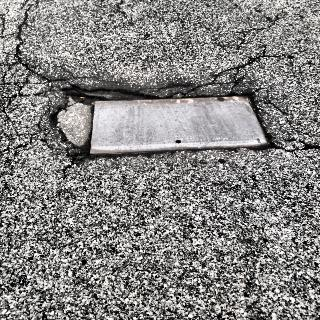alligator-crack: (0, 72, 84, 162)
crack: (175, 44, 282, 98), (238, 0, 292, 46), (14, 0, 48, 71), (267, 138, 316, 158)
